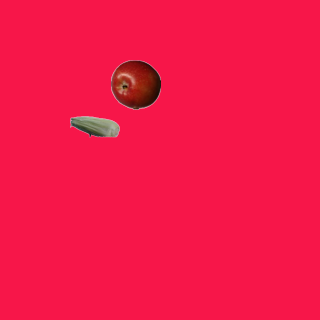Apple Braeburn: (110, 59, 160, 109)
Corn Husk: (69, 101, 119, 151)
